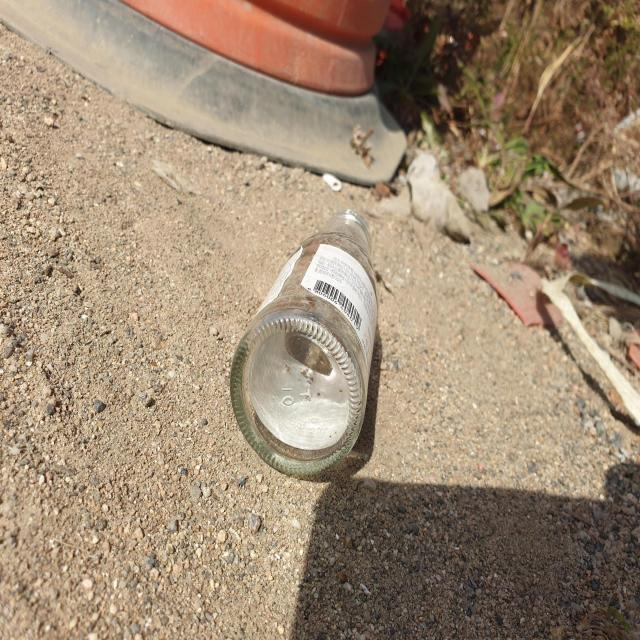glass: (230, 209, 379, 476)
